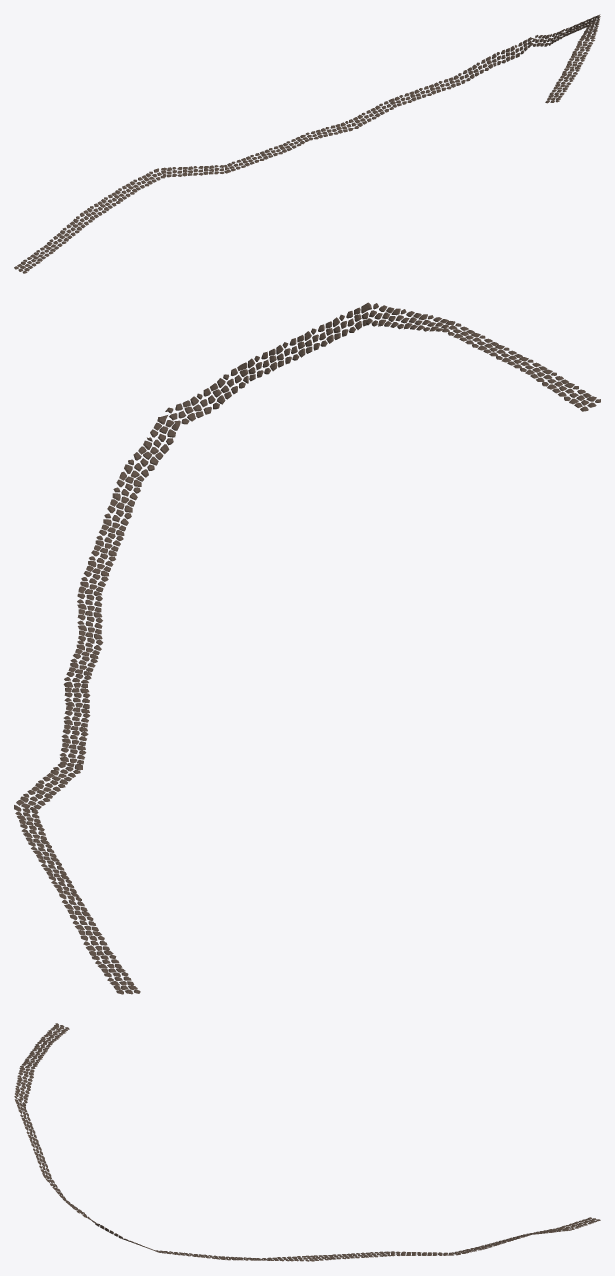
File: Paving.fbx
3 views of the same model, one above another, from view 1: azimuth 90°, elevation 25°; view 2: azimuth 150°, elevation 25°; view 3: azimuth 270°, elevation 25° (orthographic). The views are drawn at different scales.
Visible parts, largest first — view 1: Paving.001; view 2: Paving.001; view 3: Paving.001.
Boxes of the visible parts, x1=… form: Paving.001: x1=14, y1=14, x2=600, y2=273; Paving.001: x1=14, y1=302, x2=600, y2=994; Paving.001: x1=14, y1=1023, x2=600, y2=1261.
Size of the model in its own units: 1423 by 980 by 2699.
